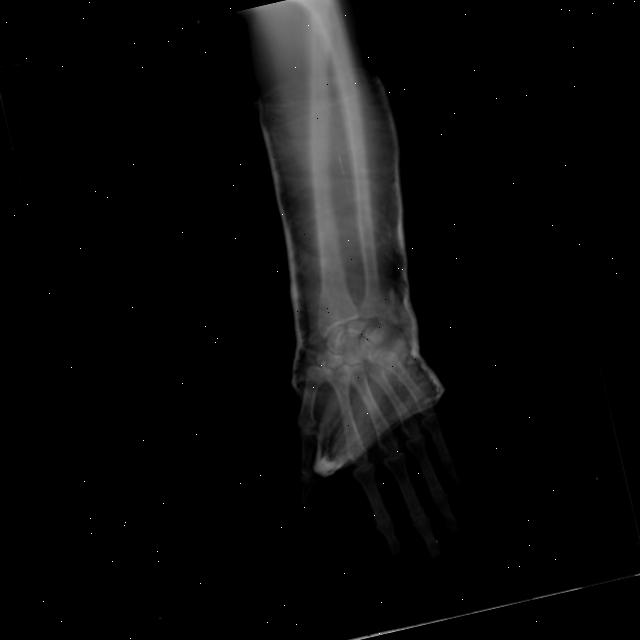Fracture: (375, 283, 411, 332)
